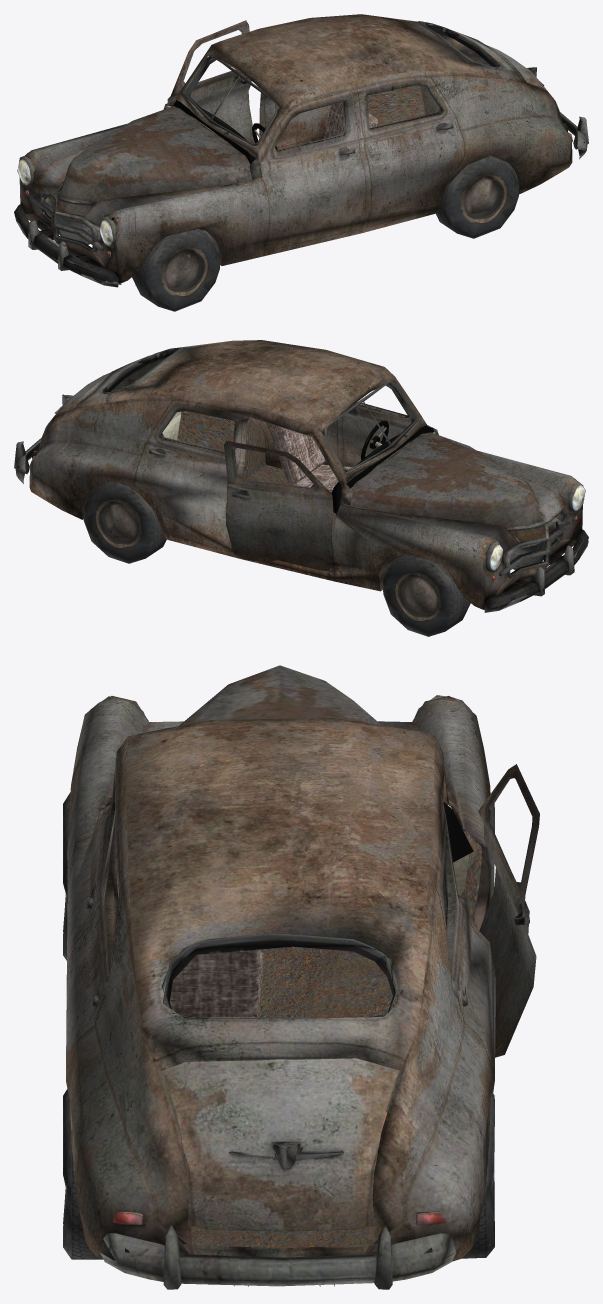
File: victim_car.glb
3 views of the same model, one above another, from view 1: azimuth 30°, elevation 25°; view 2: azimuth 150°, elevation 25°; view 3: azimuth 270°, elevation 25° (orthographic). The views are drawn at different scales.
Parts seen in each view (by area): view 1: RustyCar, Motorhuv, CarDoor, CarInterior, CarFloor, Bumper, Baklucka; view 2: RustyCar, Motorhuv, CarDoor, CarInterior, CarFloor, Bumper, Baklucka; view 3: RustyCar, Baklucka, CarFloor, Bumper, CarDoor, CarInterior, Motorhuv.
Boxes of the visible parts, box(x1,y1,x2,y2) form: RustyCar: box(14, 14, 572, 311); Motorhuv: box(56, 106, 251, 215); CarDoor: box(167, 20, 254, 143); CarInterior: box(166, 86, 439, 164); CarFloor: box(62, 85, 509, 230); Bumper: box(560, 112, 588, 159); Baklucka: box(486, 45, 562, 121); RustyCar: box(29, 340, 588, 636); Motorhuv: box(350, 432, 546, 541); CarDoor: box(224, 440, 333, 571); CarInterior: box(162, 411, 435, 513); CarFloor: box(177, 410, 540, 572); Bumper: box(14, 437, 41, 483); Baklucka: box(39, 373, 109, 447); RustyCar: box(63, 695, 495, 1261); Baklucka: box(163, 1058, 398, 1231); CarFloor: box(186, 831, 481, 1248); Bumper: box(100, 1224, 456, 1289); CarDoor: box(478, 764, 539, 1057); CarInterior: box(160, 802, 473, 1171); Motorhuv: box(179, 665, 381, 725).
Size of what is drawn, in the model's own units: 9.54 by 3.26 by 3.81.
Materials: 12 (12 with a texture image).
